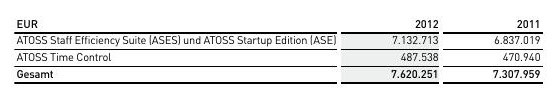table: (0, 0, 553, 96)
